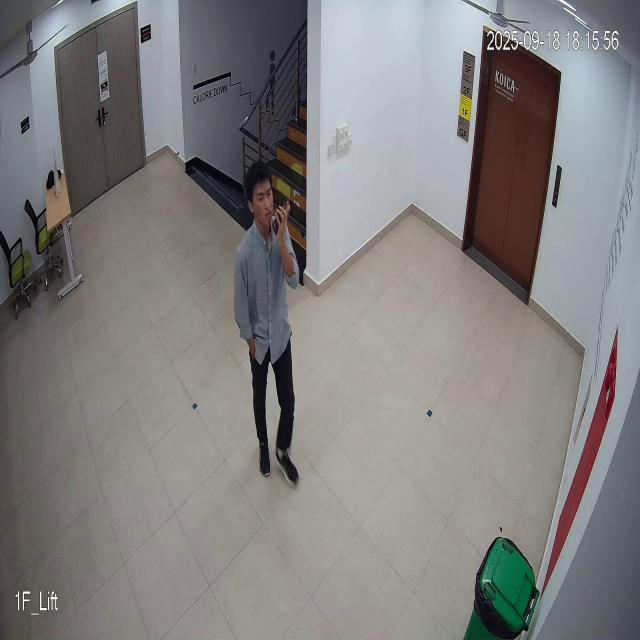face: (242, 154, 281, 237)
